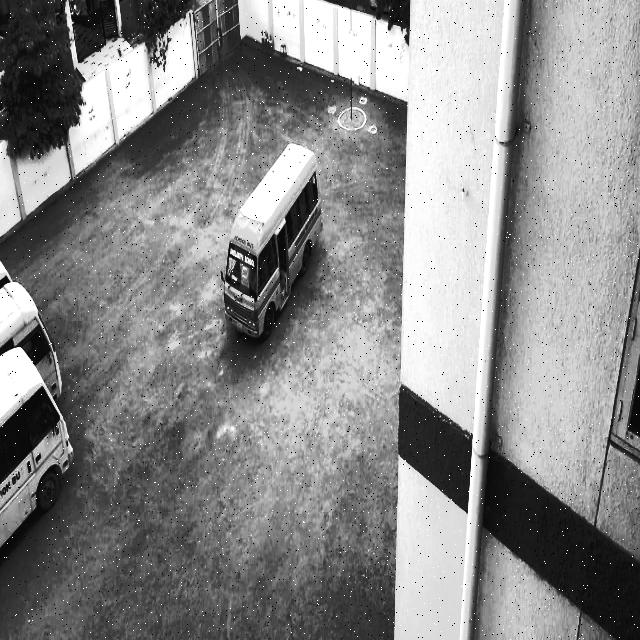Bus: (219, 127, 329, 366), (1, 348, 80, 537), (3, 266, 69, 409)
